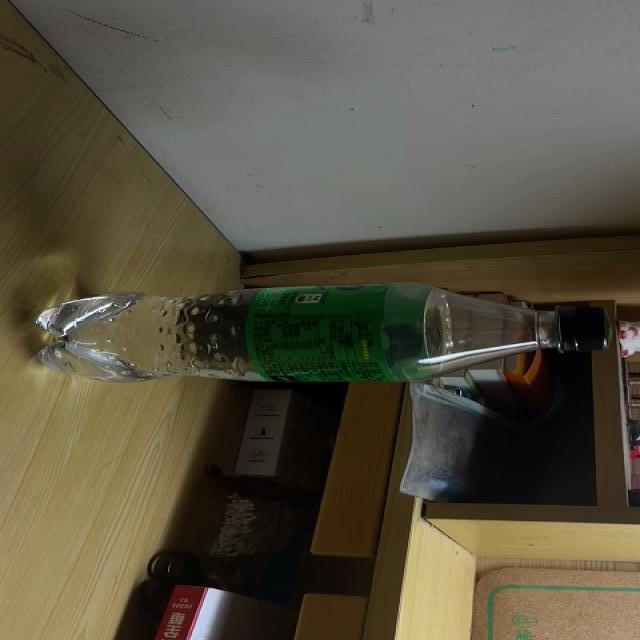Sprite: (31, 282, 613, 385)
